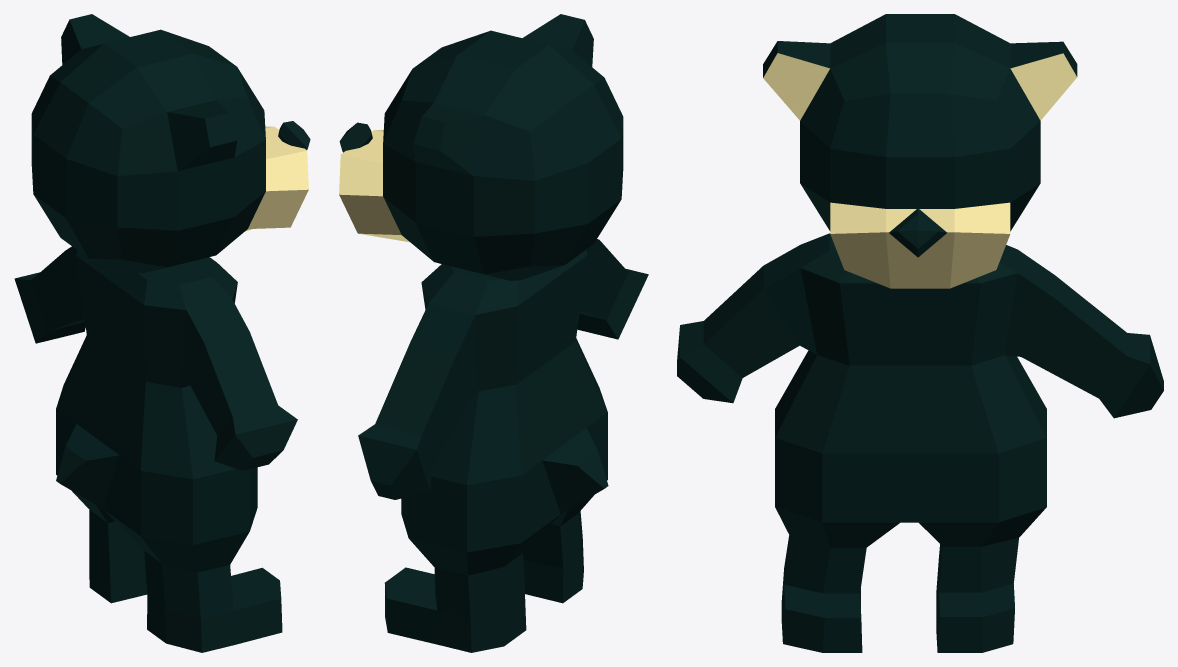
The model's file is teddybear-black.fbx.
3 views of the same model, side by side, from view 1: azimuth 30°, elevation 25°; view 2: azimuth 150°, elevation 25°; view 3: azimuth 270°, elevation 25° (orthographic). The views are drawn at different scales.
Parts seen in each view (by area): view 1: teddy.002; view 2: teddy.002; view 3: teddy.002.
Part boxes in pixels (bbox=[...]): teddy.002: bbox=[14, 14, 310, 652]; teddy.002: bbox=[339, 14, 648, 652]; teddy.002: bbox=[677, 14, 1163, 652].
Bounding box in the file's own units: 166 × 342 × 259.
